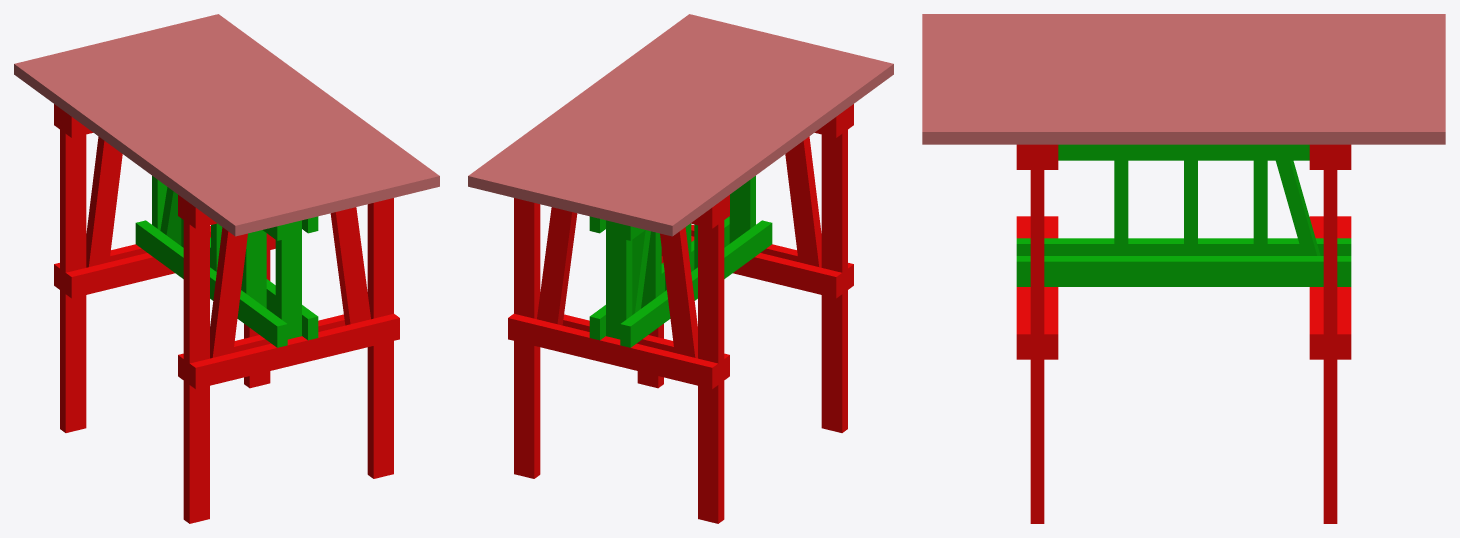
Rendered from result.glb.
3 views of the same model, side by side, from view 1: azimuth 30°, elevation 25°; view 2: azimuth 150°, elevation 25°; view 3: azimuth 270°, elevation 25° (orthographic). The views are drawn at different scales.
Parts seen in each view (by area): view 1: c4525d76-0a3d-4781-bc49-601671550086__sideV, 2f27a398-f869-4bb5-a7e6-b4f9737b30ce__undefined, 18a8d188-30c1-4eef-be13-fd6ed63ad19b__Box, d5720150-4ad4-4af4-83e4-b5cc0b77a151__sideV, 9b008e25-9546-435d-92e2-eaef86f2997e__sideH, e137df3d-e038-4156-8ed2-de58dcc7075b__undefined, 0f949476-ad94-4fd9-9fe1-e720e6149ca1__undefined, 30d212bb-364b-4115-b645-ffdb4aa95055__undefined, aabf65c5-f338-4aaf-b74d-4c1dfaf657b0__undefined, 59eb407d-7442-441a-8064-a925cb42a2e5__undefined, 14231bef-b50b-4a06-9380-99d4a25933b3__undefined, 7394cedc-d83c-4eb7-866f-2860990416be__undefined (+15 smaller); view 2: 2f27a398-f869-4bb5-a7e6-b4f9737b30ce__undefined, c4525d76-0a3d-4781-bc49-601671550086__sideV, 18a8d188-30c1-4eef-be13-fd6ed63ad19b__Box, 3f9e5725-b5c4-4d6f-8241-45eb291b290e__undefined, 11362de8-a24e-4efb-a135-4dbbcf779efa__undefined, e137df3d-e038-4156-8ed2-de58dcc7075b__undefined, 0f949476-ad94-4fd9-9fe1-e720e6149ca1__undefined, 30d212bb-364b-4115-b645-ffdb4aa95055__undefined, aabf65c5-f338-4aaf-b74d-4c1dfaf657b0__undefined, 59eb407d-7442-441a-8064-a925cb42a2e5__undefined, 14231bef-b50b-4a06-9380-99d4a25933b3__undefined, 7394cedc-d83c-4eb7-866f-2860990416be__undefined (+14 smaller); view 3: 0f949476-ad94-4fd9-9fe1-e720e6149ca1__undefined, d6aefb6e-8aee-4cab-b94e-e295254dc6b0__strutH, aabf65c5-f338-4aaf-b74d-4c1dfaf657b0__undefined, 14231bef-b50b-4a06-9380-99d4a25933b3__undefined, e137df3d-e038-4156-8ed2-de58dcc7075b__undefined, d5df4689-08aa-4a72-8d7d-9d5b117659b9__undefined, 30d212bb-364b-4115-b645-ffdb4aa95055__undefined, 18a8d188-30c1-4eef-be13-fd6ed63ad19b__Box, 7394cedc-d83c-4eb7-866f-2860990416be__undefined, 59eb407d-7442-441a-8064-a925cb42a2e5__undefined, 0e8e232a-b817-4ff4-b00e-dfd67b1acc82__undefined, d5720150-4ad4-4af4-83e4-b5cc0b77a151__sideV (+11 smaller).
Part boxes in pixels (box(x1,y1,x2,y2)): c4525d76-0a3d-4781-bc49-601671550086__sideV: box(183, 199, 209, 523); 2f27a398-f869-4bb5-a7e6-b4f9737b30ce__undefined: box(60, 108, 86, 432); 18a8d188-30c1-4eef-be13-fd6ed63ad19b__Box: box(14, 59, 255, 236); d5720150-4ad4-4af4-83e4-b5cc0b77a151__sideV: box(367, 198, 393, 478); 9b008e25-9546-435d-92e2-eaef86f2997e__sideH: box(189, 313, 399, 389); e137df3d-e038-4156-8ed2-de58dcc7075b__undefined: box(76, 44, 317, 221); 0f949476-ad94-4fd9-9fe1-e720e6149ca1__undefined: box(198, 14, 439, 191); 30d212bb-364b-4115-b645-ffdb4aa95055__undefined: box(158, 24, 398, 201); aabf65c5-f338-4aaf-b74d-4c1dfaf657b0__undefined: box(35, 54, 276, 231); 59eb407d-7442-441a-8064-a925cb42a2e5__undefined: box(117, 34, 357, 211); 14231bef-b50b-4a06-9380-99d4a25933b3__undefined: box(55, 49, 296, 226); 7394cedc-d83c-4eb7-866f-2860990416be__undefined: box(96, 39, 337, 216); 2f27a398-f869-4bb5-a7e6-b4f9737b30ce__undefined: box(698, 199, 724, 523); c4525d76-0a3d-4781-bc49-601671550086__sideV: box(821, 108, 847, 432); 18a8d188-30c1-4eef-be13-fd6ed63ad19b__Box: box(652, 59, 893, 236); 3f9e5725-b5c4-4d6f-8241-45eb291b290e__undefined: box(514, 198, 540, 478); 11362de8-a24e-4efb-a135-4dbbcf779efa__undefined: box(508, 313, 718, 389); e137df3d-e038-4156-8ed2-de58dcc7075b__undefined: box(590, 44, 831, 221); 0f949476-ad94-4fd9-9fe1-e720e6149ca1__undefined: box(468, 14, 709, 191); 30d212bb-364b-4115-b645-ffdb4aa95055__undefined: box(509, 24, 749, 201); aabf65c5-f338-4aaf-b74d-4c1dfaf657b0__undefined: box(631, 54, 872, 231); 59eb407d-7442-441a-8064-a925cb42a2e5__undefined: box(550, 34, 790, 211); 14231bef-b50b-4a06-9380-99d4a25933b3__undefined: box(611, 49, 852, 226); 7394cedc-d83c-4eb7-866f-2860990416be__undefined: box(570, 39, 811, 216); 0f949476-ad94-4fd9-9fe1-e720e6149ca1__undefined: box(922, 120, 1445, 144); d6aefb6e-8aee-4cab-b94e-e295254dc6b0__strutH: box(1016, 256, 1351, 286); aabf65c5-f338-4aaf-b74d-4c1dfaf657b0__undefined: box(922, 25, 1445, 37); 14231bef-b50b-4a06-9380-99d4a25933b3__undefined: box(922, 37, 1445, 49); e137df3d-e038-4156-8ed2-de58dcc7075b__undefined: box(922, 49, 1445, 61); d5df4689-08aa-4a72-8d7d-9d5b117659b9__undefined: box(922, 84, 1445, 96); 30d212bb-364b-4115-b645-ffdb4aa95055__undefined: box(922, 96, 1445, 108); 18a8d188-30c1-4eef-be13-fd6ed63ad19b__Box: box(922, 14, 1445, 25); 7394cedc-d83c-4eb7-866f-2860990416be__undefined: box(922, 61, 1445, 72); 59eb407d-7442-441a-8064-a925cb42a2e5__undefined: box(922, 73, 1445, 84); 0e8e232a-b817-4ff4-b00e-dfd67b1acc82__undefined: box(922, 108, 1445, 119); d5720150-4ad4-4af4-83e4-b5cc0b77a151__sideV: box(1030, 144, 1044, 523).
Bounding box in the file's own units: 800 × 1240 × 1500.
